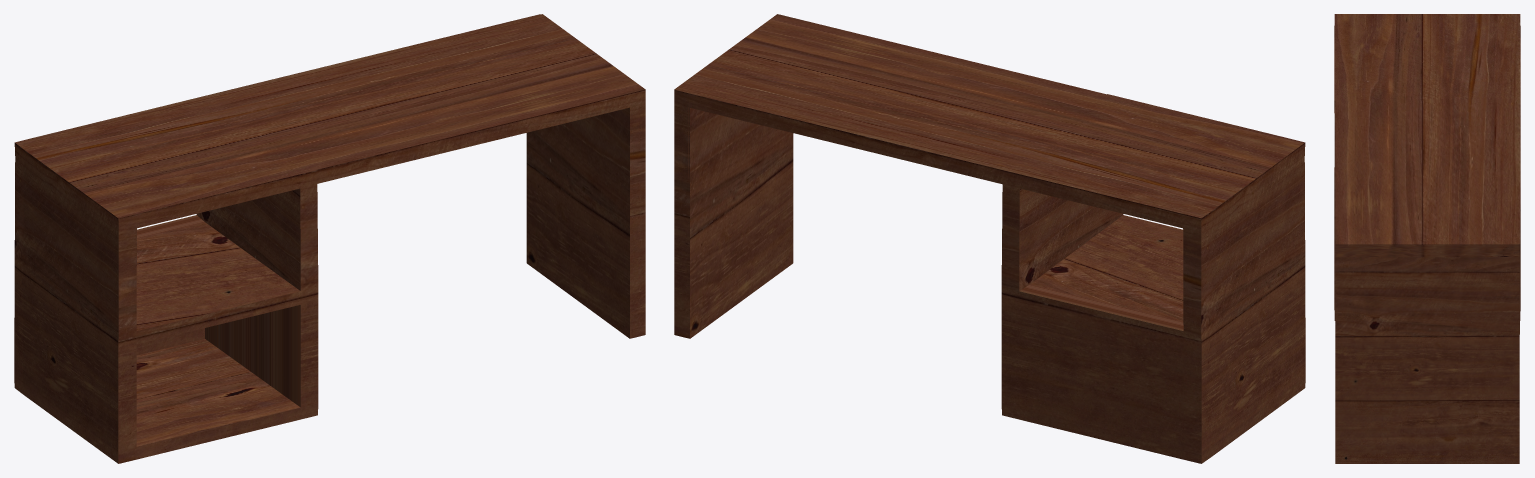
File: mejaremek.fbx
3 renders of one model, left to right at view 1: azimuth 30°, elevation 25°; view 2: azimuth 150°, elevation 25°; view 3: azimuth 270°, elevation 25°, orthographic. The views are drawn at different scales.
Visible parts, largest first — view 1: Cube.004; view 2: Cube.004; view 3: Cube.004.
Part boxes in pixels (<box>): Cube.004: <box>14,14,645,463</box>; Cube.004: <box>674,14,1305,463</box>; Cube.004: <box>1334,14,1520,463</box>.
Bounding box in the file's own units: 1214 × 539 × 415.
